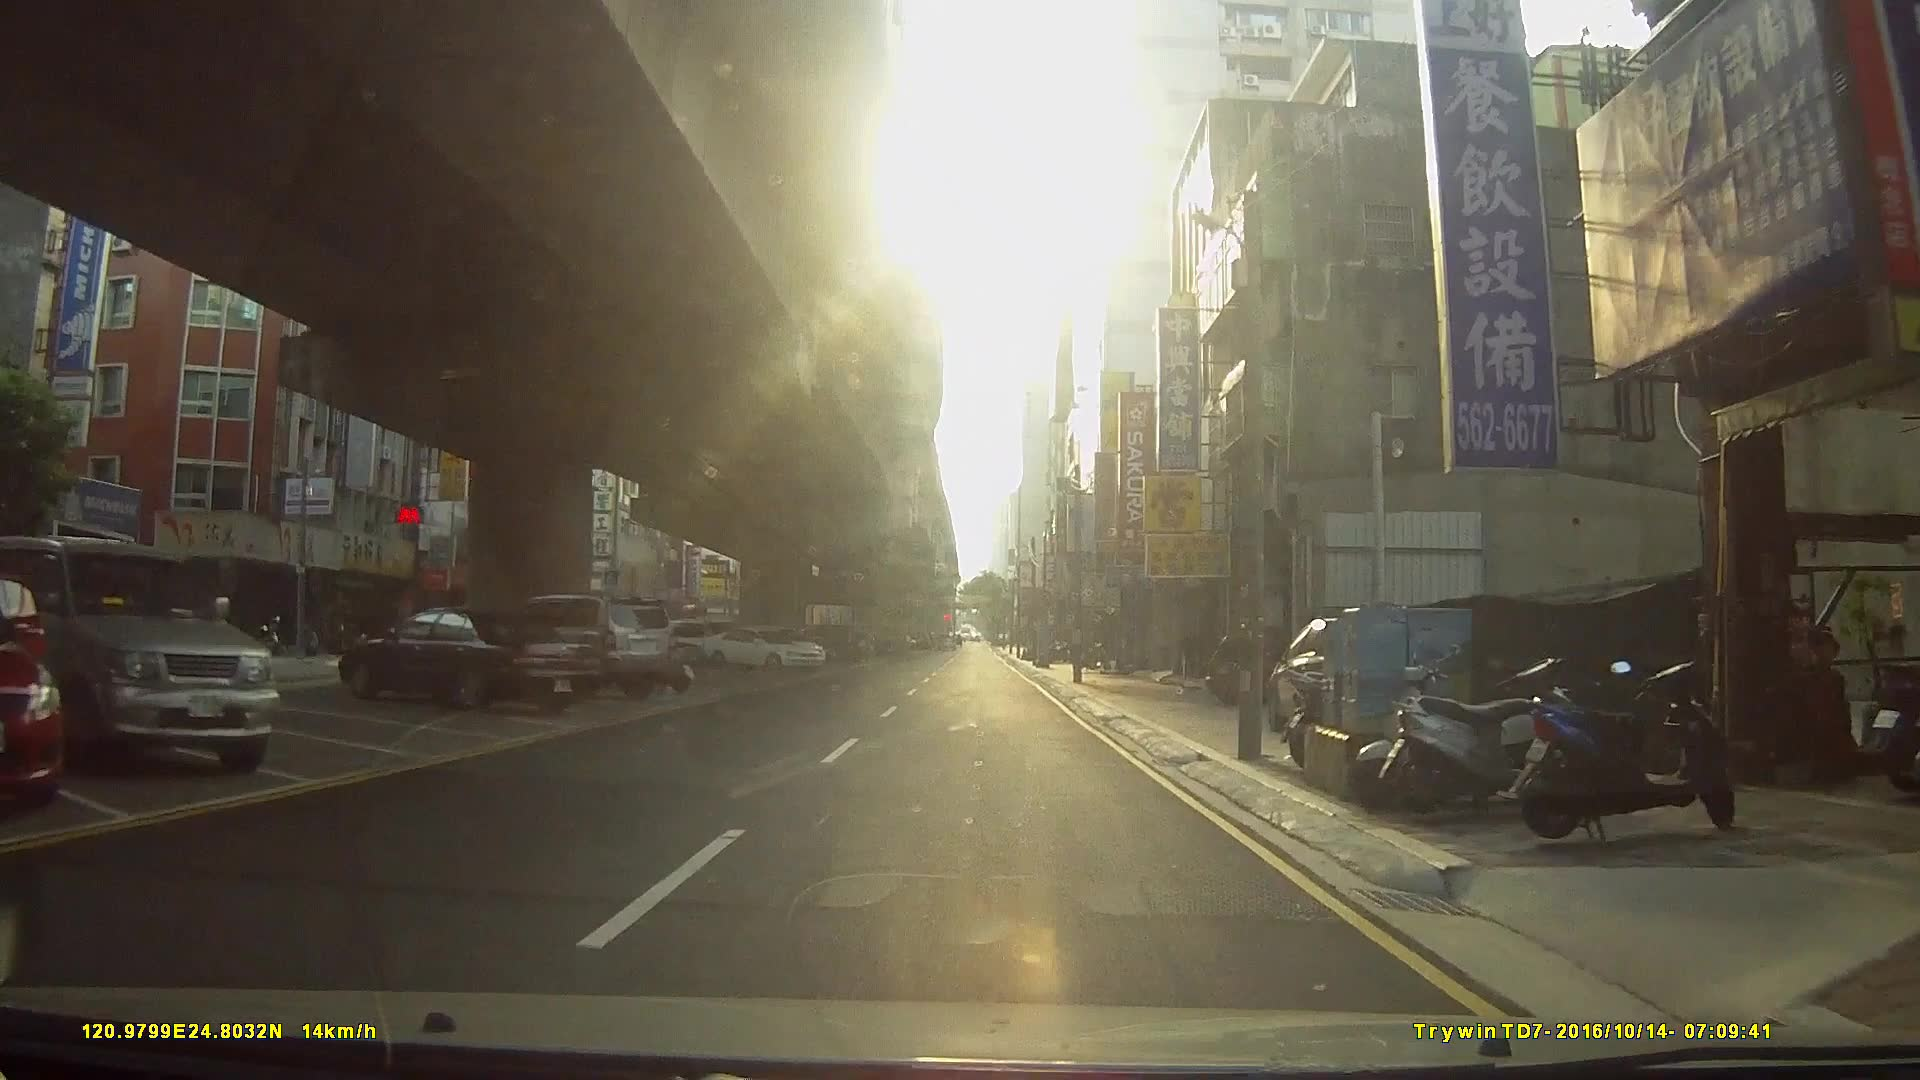vehicle: (0, 534, 280, 775), (335, 605, 609, 715), (493, 592, 676, 702), (0, 612, 65, 804), (1203, 626, 1323, 708), (699, 626, 831, 674)
